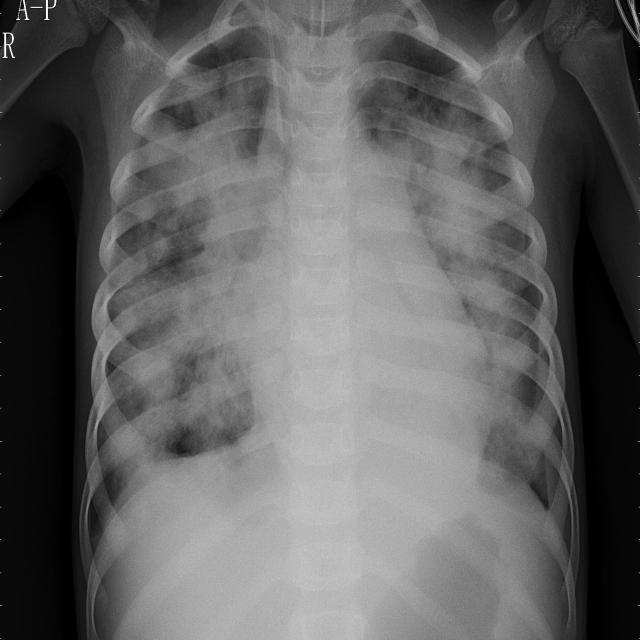high-pneumonia: (397, 112, 552, 469), (122, 252, 259, 448), (166, 99, 259, 259)
